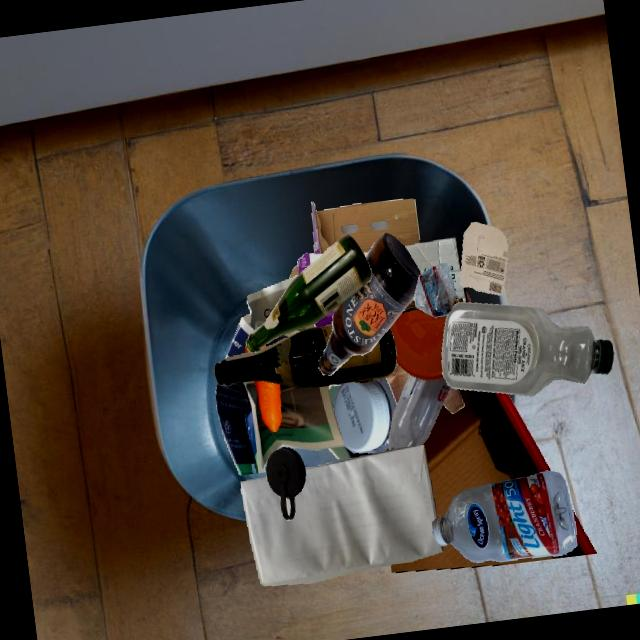biowaste: (253, 380, 281, 431), (245, 346, 262, 381)
cardboard: (390, 510, 596, 572), (428, 388, 550, 483), (327, 233, 393, 385), (289, 198, 409, 278), (403, 237, 467, 307)
glass: (245, 234, 372, 353), (318, 233, 420, 375), (214, 324, 396, 387)
paper: (240, 444, 443, 585), (254, 384, 344, 473), (229, 328, 305, 427), (225, 275, 298, 358), (215, 382, 254, 475), (460, 222, 508, 295), (315, 327, 336, 446), (385, 362, 409, 404), (442, 386, 464, 414), (336, 445, 374, 459), (327, 385, 340, 410)
plastic: (441, 302, 614, 396), (432, 470, 576, 562), (333, 377, 397, 453), (388, 373, 450, 450), (389, 309, 448, 380), (265, 447, 305, 520), (413, 262, 455, 317)
